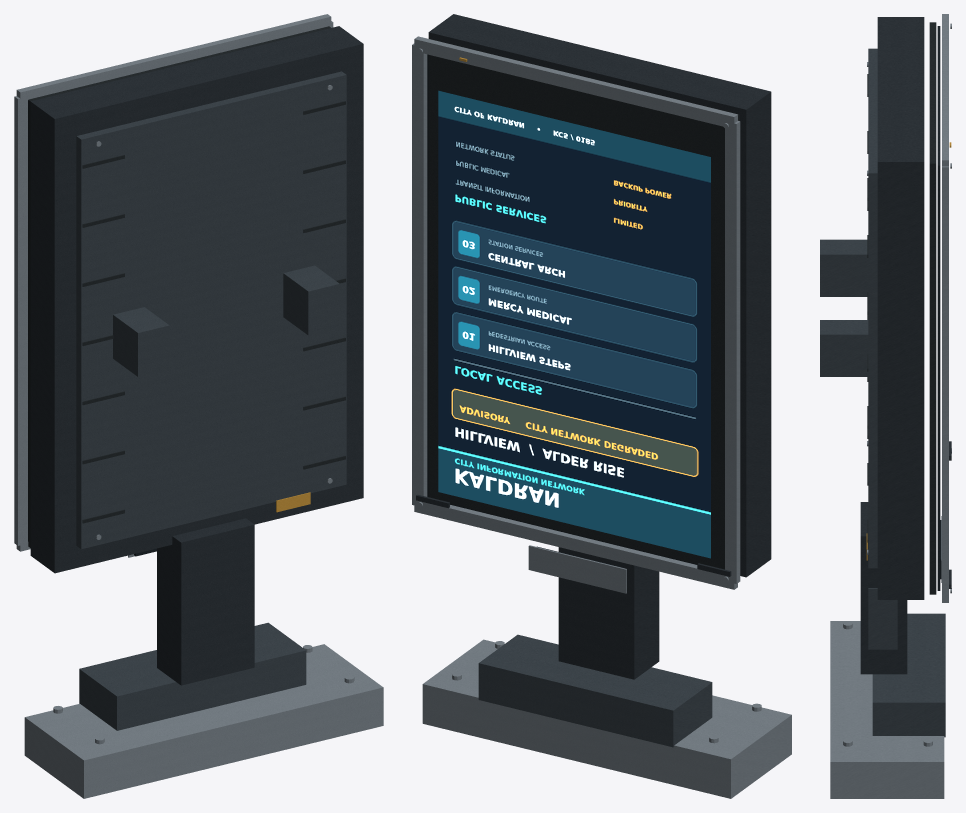
3 views of the same model, side by side, from view 1: azimuth 30°, elevation 25°; view 2: azimuth 150°, elevation 25°; view 3: azimuth 270°, elevation 25° (orthographic). The views are drawn at different scales.
Parts seen in each view (by area): view 1: VIS_BACK_SERVICE_COVER__back_casing, VIS_ALUMINIUM_ENCLOSURE__black_aluminium, VIS_FOUNDATION_FOOT__anodized_silver, VIS_SUPPORT_PYLON__black_aluminium, VIS_PLINTH_BLACK_INSERT__back_casing, VIS_WALL_BRACKET__back_casing, VIS_FRONT_FRAME_VERTICAL__anodized_silver, VIS_FRONT_FRAME_HORIZONTAL__anodized_silver, VIS_REAR_INTAKE_VENTS__rubber_seal, VIS_FRONT_GASKET__rubber_seal; view 2: VIS_LCD_ACTIVE_PIXELS__City_Lit, VIS_ALUMINIUM_ENCLOSURE__black_aluminium, VIS_SCREEN_GLASS_SEAL__rubber_seal, VIS_FOUNDATION_FOOT__anodized_silver, VIS_PLINTH_BLACK_INSERT__back_casing, VIS_FRONT_FRAME_VERTICAL__anodized_silver, VIS_FRONT_FRAME_HORIZONTAL__anodized_silver, VIS_SUPPORT_PYLON__black_aluminium, VIS_TOUCH_RIM__anodized_silver, VIS_BLACK_BEZEL_BACK__dark_glass; view 3: VIS_ALUMINIUM_ENCLOSURE__black_aluminium, VIS_FOUNDATION_FOOT__anodized_silver, VIS_PLINTH_BLACK_INSERT__back_casing, VIS_WALL_BRACKET__back_casing, VIS_BACK_SERVICE_COVER__back_casing, VIS_FRONT_GASKET__rubber_seal, VIS_SUPPORT_PYLON__black_aluminium, VIS_FRONT_FRAME_VERTICAL__anodized_silver, VIS_BLACK_BEZEL_BACK__dark_glass, VIS_SIDE_SERVICE_HATCH__back_casing, VIS_FRONT_FRAME_HORIZONTAL__anodized_silver, VIS_REAR_INTAKE_VENTS__rubber_seal.
Part boxes in pixels (left/top/right/bottom): VIS_BACK_SERVICE_COVER__back_casing: left=76, top=71, right=346, bottom=549; VIS_ALUMINIUM_ENCLOSURE__black_aluminium: left=30, top=26, right=363, bottom=573; VIS_FOUNDATION_FOOT__anodized_silver: left=24, top=644, right=383, bottom=798; VIS_SUPPORT_PYLON__black_aluminium: left=157, top=518, right=254, bottom=685; VIS_PLINTH_BLACK_INSERT__back_casing: left=79, top=622, right=306, bottom=730; VIS_WALL_BRACKET__back_casing: left=113, top=265, right=339, bottom=376; VIS_FRONT_FRAME_VERTICAL__anodized_silver: left=14, top=21, right=333, bottom=545; VIS_FRONT_FRAME_HORIZONTAL__anodized_silver: left=16, top=14, right=331, bottom=551; VIS_REAR_INTAKE_VENTS__rubber_seal: left=82, top=101, right=345, bottom=523; VIS_FRONT_GASKET__rubber_seal: left=28, top=26, right=330, bottom=547; VIS_LCD_ACTIVE_PIXELS__City_Lit: left=438, top=90, right=710, bottom=558; VIS_ALUMINIUM_ENCLOSURE__black_aluminium: left=428, top=14, right=771, bottom=577; VIS_SCREEN_GLASS_SEAL__rubber_seal: left=428, top=55, right=724, bottom=569; VIS_FOUNDATION_FOOT__anodized_silver: left=422, top=639, right=791, bottom=798; VIS_PLINTH_BLACK_INSERT__back_casing: left=478, top=634, right=712, bottom=747; VIS_FRONT_FRAME_VERTICAL__anodized_silver: left=412, top=43, right=740, bottom=583; VIS_FRONT_FRAME_HORIZONTAL__anodized_silver: left=414, top=36, right=737, bottom=589; VIS_SUPPORT_PYLON__black_aluminium: left=558, top=547, right=659, bottom=679; VIS_TOUCH_RIM__anodized_silver: left=528, top=545, right=626, bottom=593; VIS_BLACK_BEZEL_BACK__dark_glass: left=427, top=54, right=697, bottom=564; VIS_ALUMINIUM_ENCLOSURE__black_aluminium: left=877, top=17, right=924, bottom=599; VIS_FOUNDATION_FOOT__anodized_silver: left=830, top=621, right=944, bottom=798; VIS_PLINTH_BLACK_INSERT__back_casing: left=872, top=613, right=945, bottom=737; VIS_WALL_BRACKET__back_casing: left=820, top=239, right=868, bottom=376; VIS_BACK_SERVICE_COVER__back_casing: left=868, top=48, right=877, bottom=568; VIS_FRONT_GASKET__rubber_seal: left=929, top=22, right=936, bottom=594; VIS_SUPPORT_PYLON__black_aluminium: left=860, top=502, right=907, bottom=674; VIS_FRONT_FRAME_VERTICAL__anodized_silver: left=942, top=166, right=948, bottom=597; VIS_BLACK_BEZEL_BACK__dark_glass: left=937, top=26, right=940, bottom=590; VIS_SIDE_SERVICE_HATCH__back_casing: left=868, top=588, right=897, bottom=649; VIS_FRONT_FRAME_HORIZONTAL__anodized_silver: left=942, top=14, right=948, bottom=602; VIS_REAR_INTAKE_VENTS__rubber_seal: left=867, top=74, right=868, bottom=542.
Size of the model in its own units: 1.2 by 2.42 by 0.451.
Materials: 7 (7 with a texture image).
